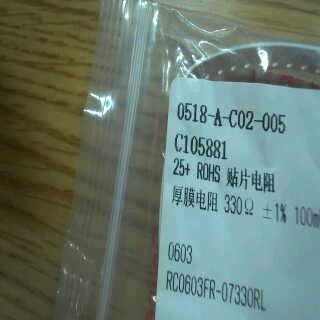330R: (221, 193, 255, 220)
